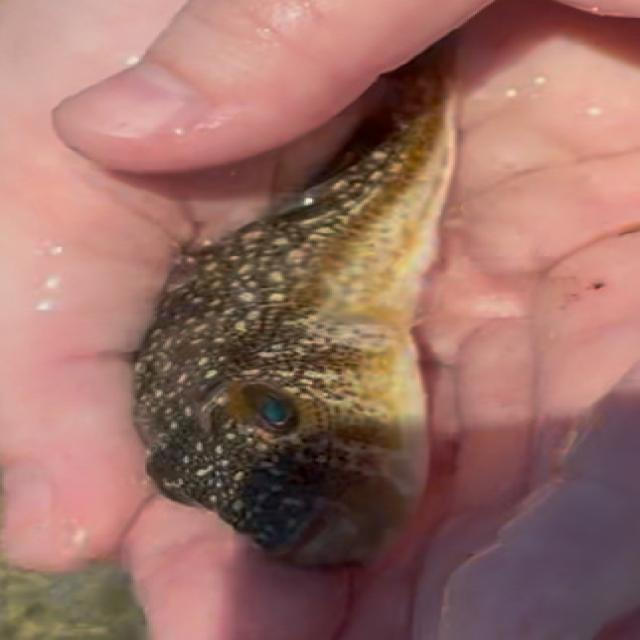Balik: (136, 50, 455, 564)
